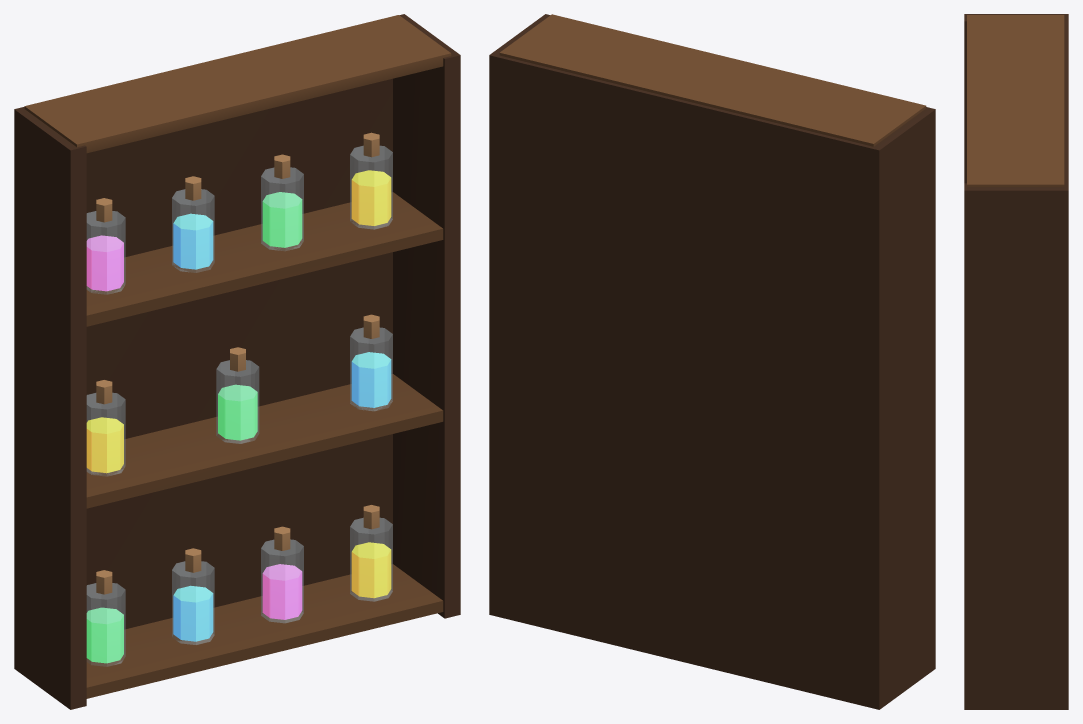
Rendered from bottle_shelf.glb.
3 views of the same model, side by side, from view 1: azimuth 30°, elevation 25°; view 2: azimuth 150°, elevation 25°; view 3: azimuth 270°, elevation 25° (orthographic). The views are drawn at different scales.
Parts seen in each view (by area): view 1: bottle_shelf; view 2: bottle_shelf; view 3: bottle_shelf.
Part boxes in pixels (<box>): bottle_shelf: <box>14,14,460,709</box>; bottle_shelf: <box>489,14,935,709</box>; bottle_shelf: <box>964,14,1068,709</box>.
Size of the model in its own units: 1.46 by 2.01 by 0.365.
